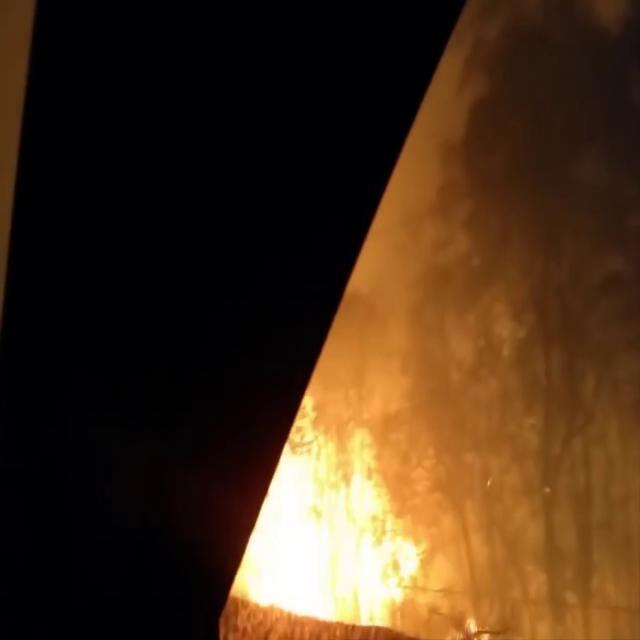Fire: (230, 414, 426, 632)
